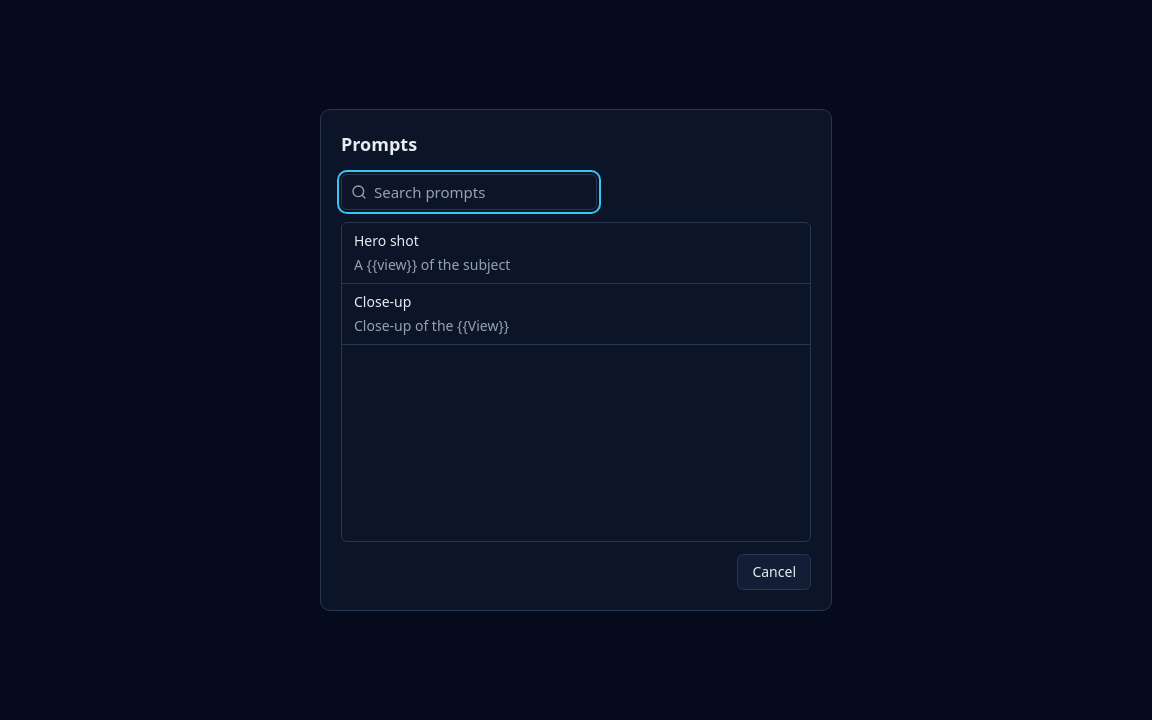
Test: a failed pick shows its message in the picker
This screenshot has width=1152, height=720.
Click the text "Hero shot" at (386, 240), box [354,231,419,250]
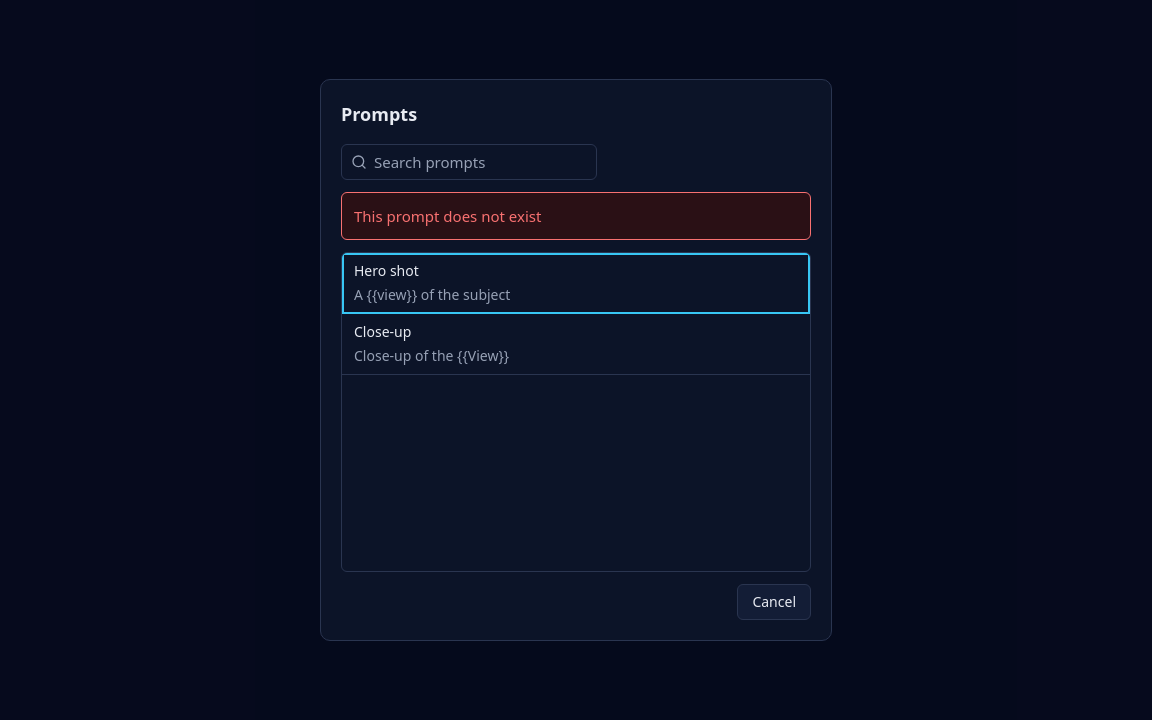
Expected: the message reads "This prompt does not exist", [354,206,541,226]
